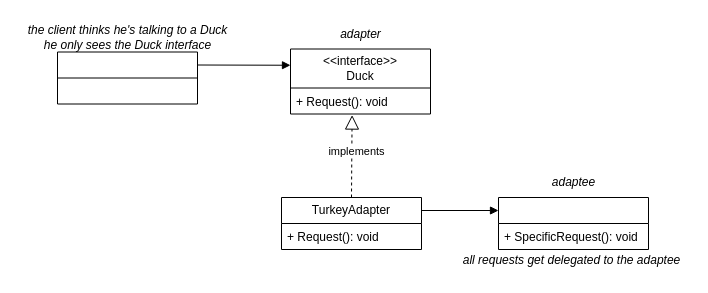
This 708x293 diagram has some shape labels left out. The box of each missing label's shape, as (x1, y1, x2, y2) in pixels:
Client: (56, 51, 198, 104)
Turkey: (498, 196, 648, 250)
